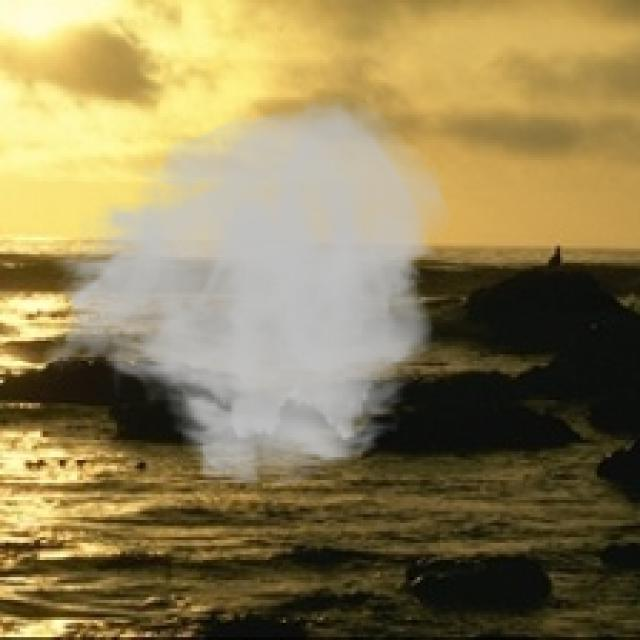smoke: (40, 94, 454, 492)
